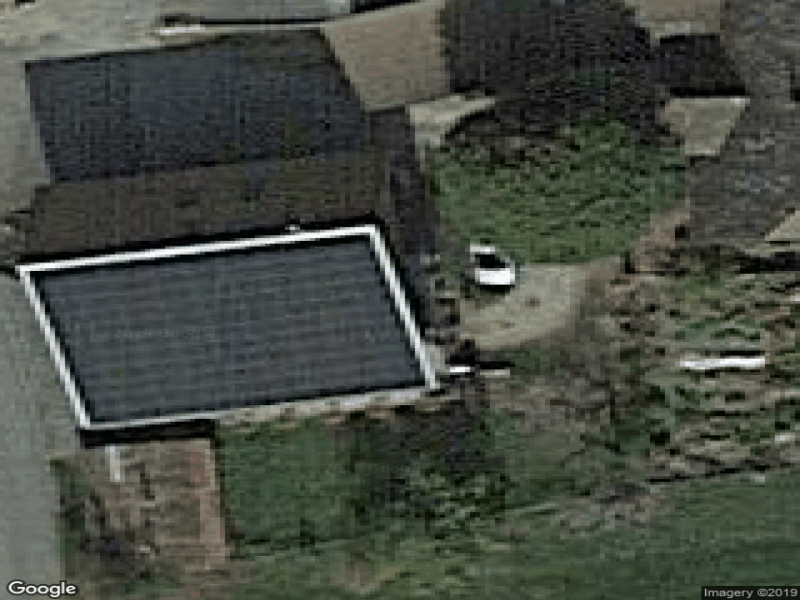pv: (35, 240, 428, 425)
